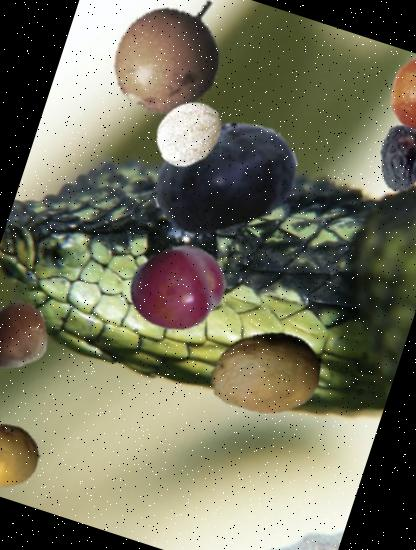Blueberry: (132, 83, 316, 268)
Cantaloupe: (144, 89, 233, 178)
Cherry: (115, 226, 241, 352)
Clementine: (375, 47, 416, 143)
Dates: (360, 117, 416, 198)
Granadilla: (90, 0, 255, 135)
Grapefruit: (0, 414, 48, 497)
Nut: (0, 292, 57, 380)
Papaya: (197, 304, 334, 440)
